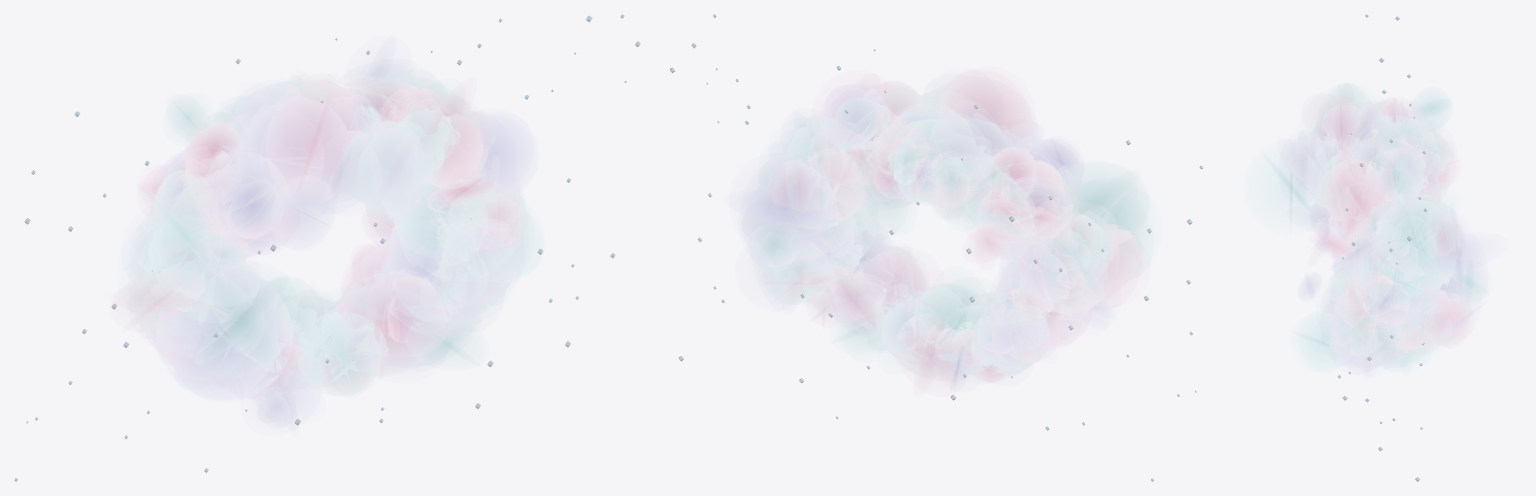
3 views of the same model, side by side, from view 1: azimuth 30°, elevation 25°; view 2: azimuth 150°, elevation 25°; view 3: azimuth 270°, elevation 25° (orthographic). The views are drawn at different scales.
Bounding box in the file's own units: 5.91 × 3.85 × 3.26.
